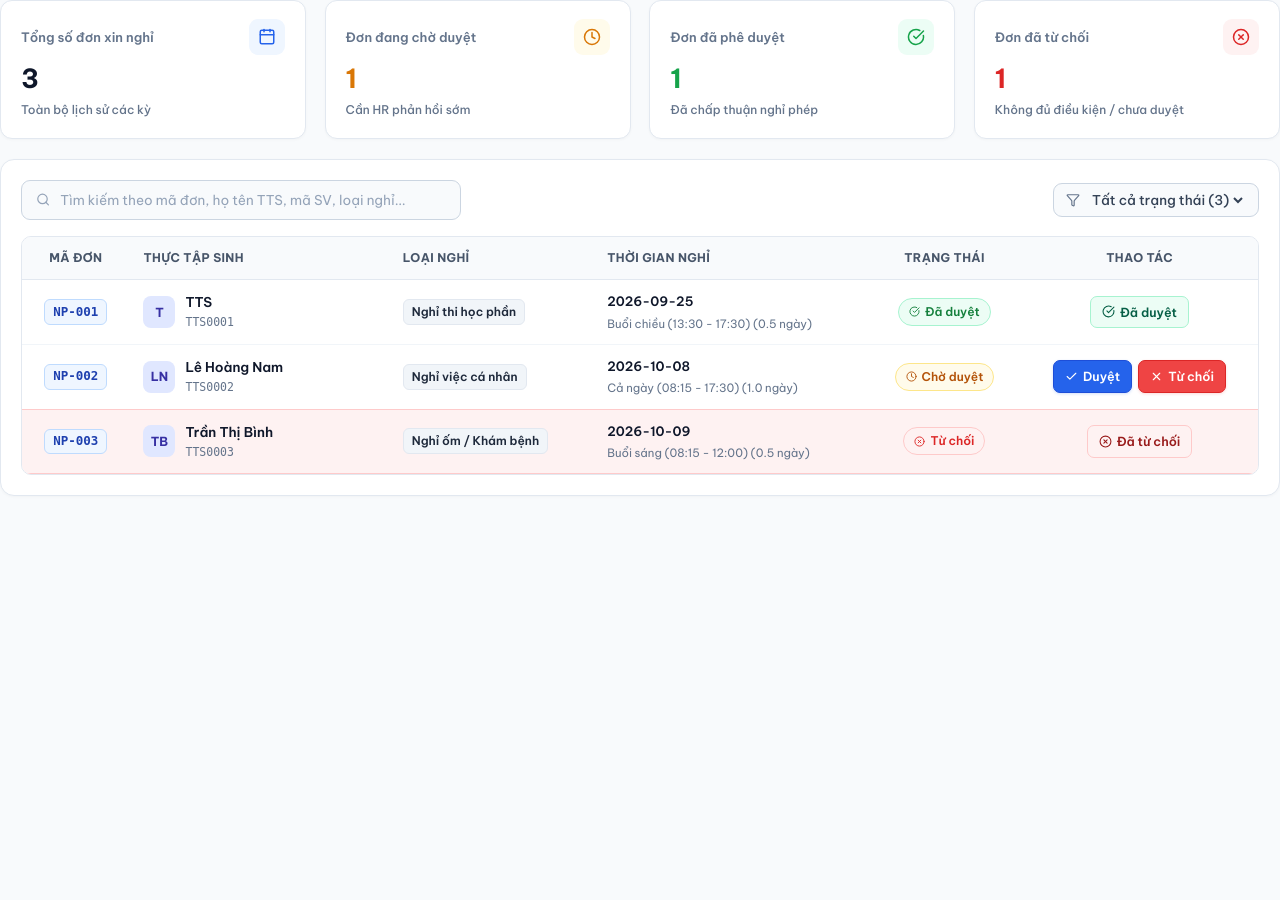
LeaveRequestManagement Test Suite (HR Leave Approval) › 1. Render & UI Structure › khi click vào khung đơn xin nghỉ (dòng bảng), mở modal chi tiết hiển thị đầy đủ thông tin kể cả 3 cột đã ẩn
Click the row "NP-002". click: (640, 377)
box: x1=22 y1=344 x2=1258 y2=409
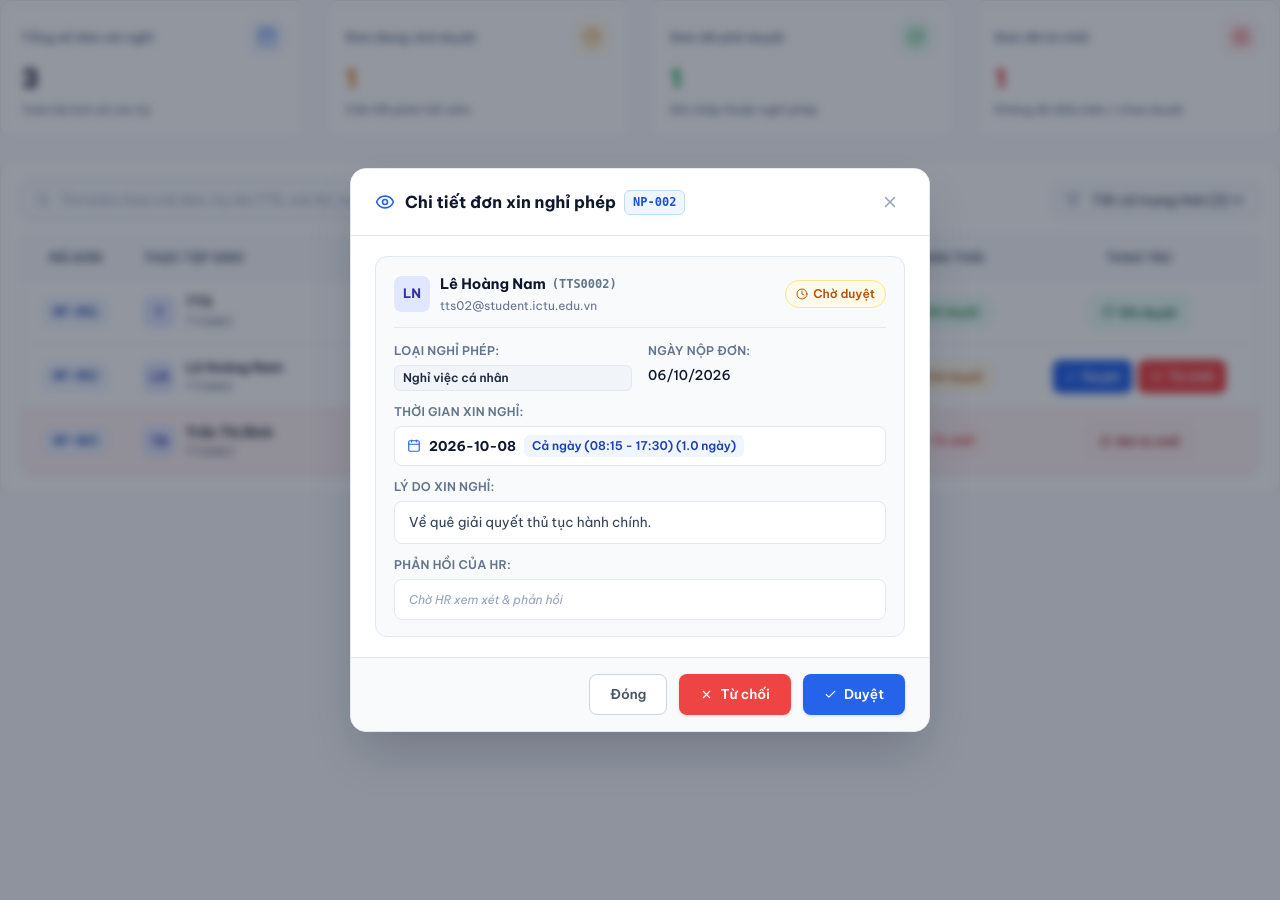
Check: the dialog is shown, box x1=350 y1=168 x2=930 y2=732
Check: the heading "Chi tiết đơn xin nghỉ phép NP-002" is shown, box x1=405 y1=190 x2=685 y2=215
Check: the text "Lý do xin nghỉ:" is shown, box x1=394 y1=479 x2=495 y2=494
